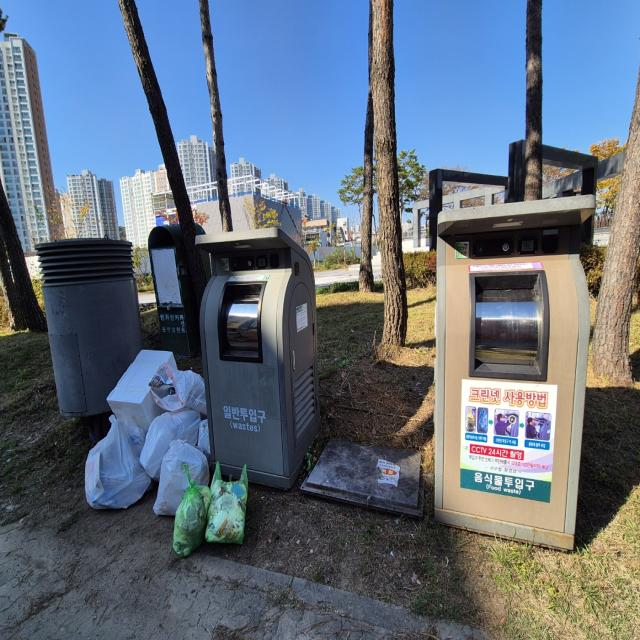CleanNet: (437, 197, 592, 550), (197, 230, 324, 486)
General Waste: (90, 348, 208, 514), (202, 459, 248, 542), (172, 489, 208, 555)
